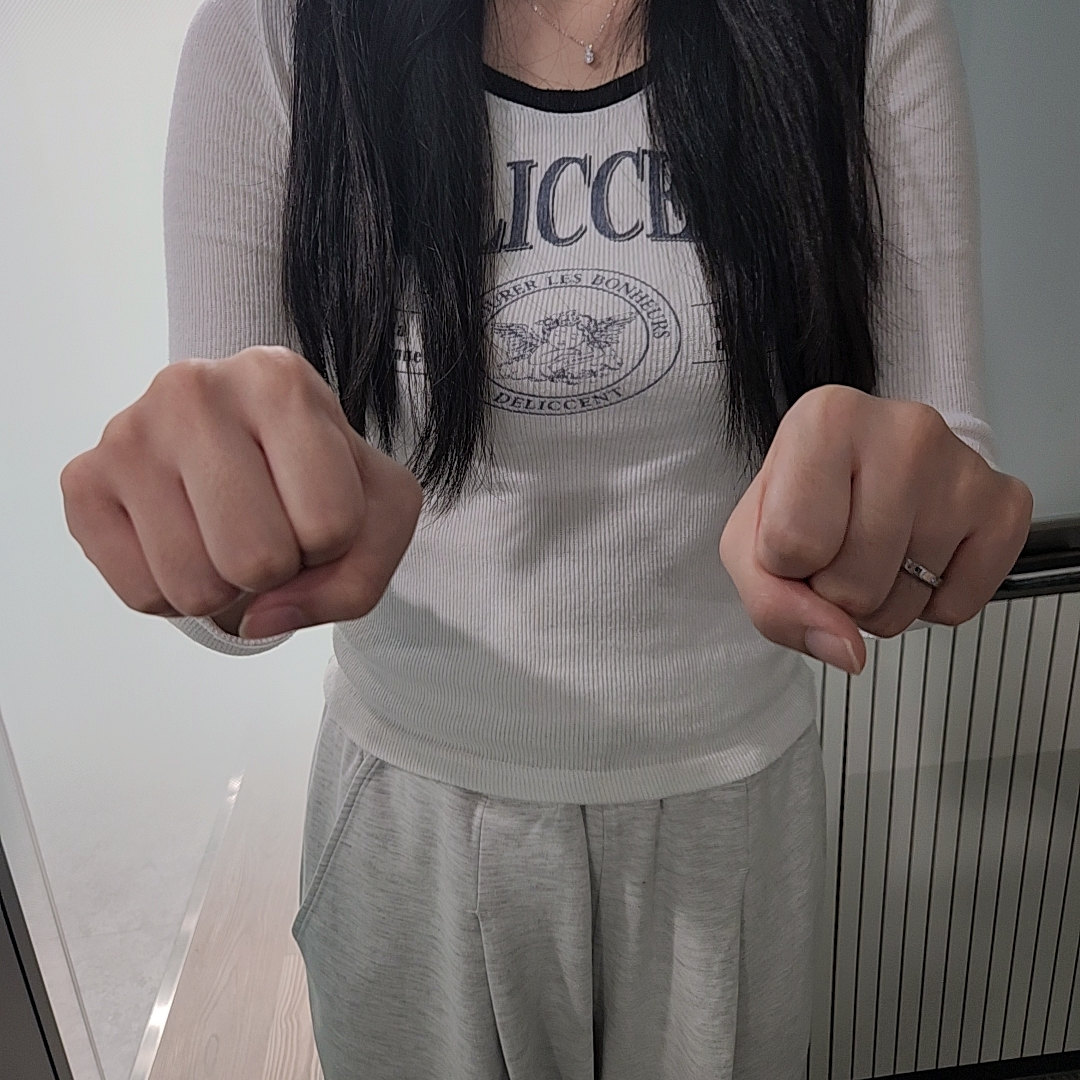hello: (67, 346, 1032, 675)
